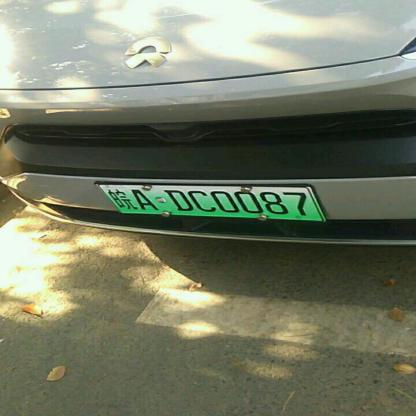lp: (99, 184, 326, 219)
